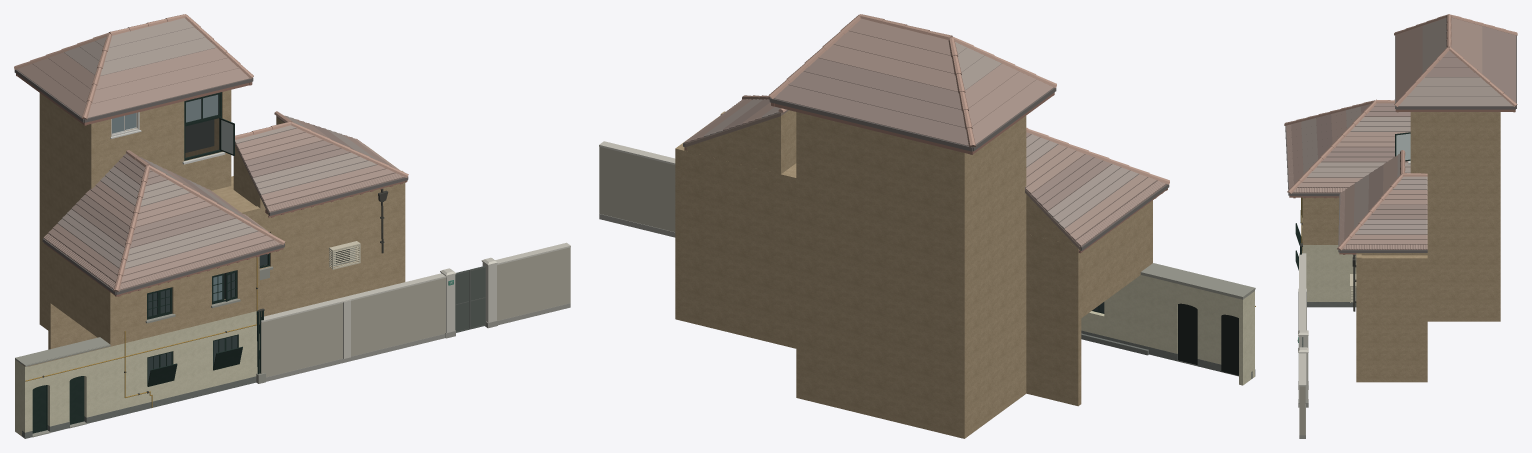
Rendered from lod-source.glb.
3 renders of one model, left to right at view 1: azimuth 30°, elevation 25°; view 2: azimuth 150°, elevation 25°; view 3: azimuth 270°, elevation 25°, orthographic. The views are drawn at different scales.
Parts seen in each view (by area): view 1: 长乐坊337号院门与相邻临街窗墙; view 2: 长乐坊337号院门与相邻临街窗墙; view 3: 长乐坊337号院门与相邻临街窗墙.
Boxes of the visible parts, x1,y1,x2,y2 form: 长乐坊337号院门与相邻临街窗墙: (14,14,570,438); 长乐坊337号院门与相邻临街窗墙: (599,14,1255,438); 长乐坊337号院门与相邻临街窗墙: (1284,14,1517,438).
Size of the model in its own units: 22.43 by 11.99 by 9.56.
29 materials, 4 textured.
